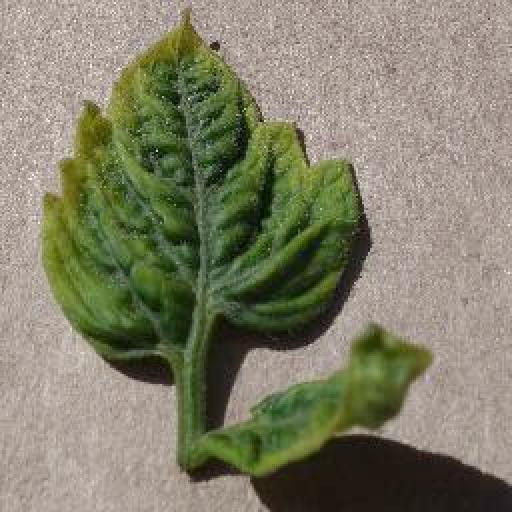disease_tomato: (44, 10, 362, 360)
